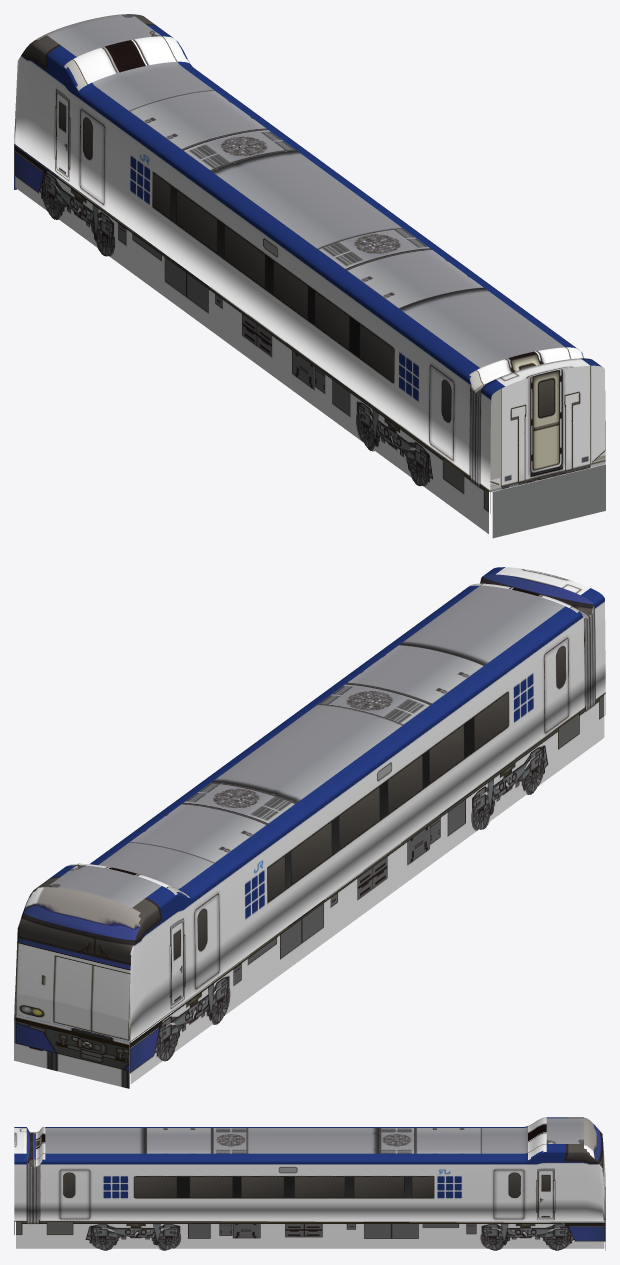
File: car3.glb
3 renders of one model, top to bottom at view 1: azimuth 30°, elevation 25°; view 2: azimuth 150°, elevation 25°; view 3: azimuth 270°, elevation 25°, orthographic. The views are drawn at different scales.
Visible parts, largest first — view 1: jr-west-271-car3; view 2: jr-west-271-car3; view 3: jr-west-271-car3.
Part boxes in pixels (left/top/right/bottom): jr-west-271-car3: left=14, top=14, right=605, bottom=538; jr-west-271-car3: left=14, top=567, right=605, bottom=1088; jr-west-271-car3: left=14, top=1117, right=605, bottom=1250.
Size of the model in its own units: 2.91 by 4.07 by 20.88.
8 materials, 7 textured.
